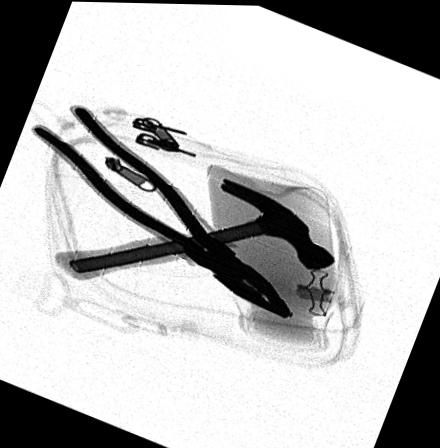Hammer: (54, 175, 338, 280)
Pliers: (29, 102, 294, 319)
